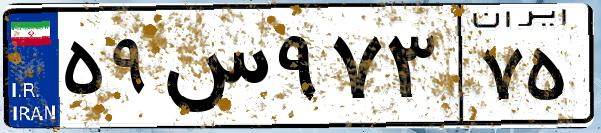3: (385, 28, 445, 110)
5: (57, 26, 110, 100), (525, 38, 570, 115)
7: (330, 28, 385, 110), (475, 38, 525, 113)
9: (270, 28, 330, 110), (110, 28, 158, 98)
س: (158, 20, 270, 120)
